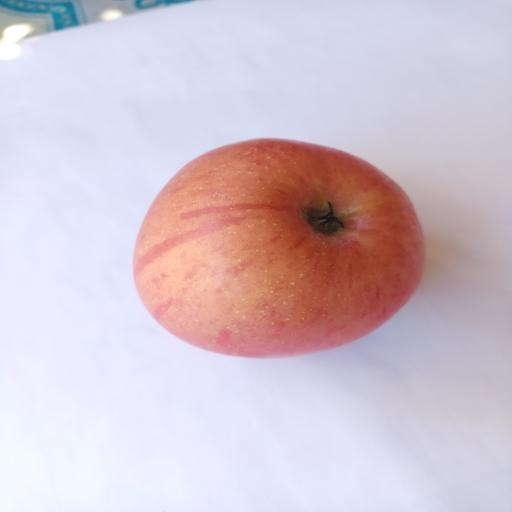apple-ripe: (129, 126, 431, 364)
